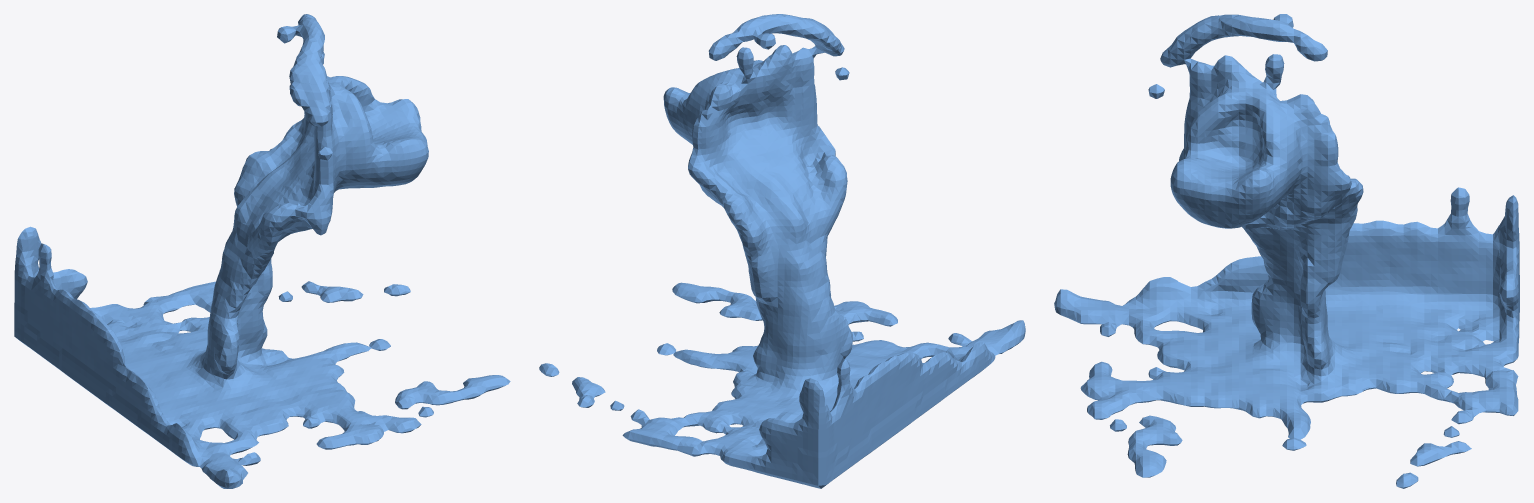
File: water_0043.glb
The picture shows the model from 3 angles, left to right: view 1: azimuth 30°, elevation 25°; view 2: azimuth 150°, elevation 25°; view 3: azimuth 270°, elevation 25°; orthographic projection. The views are drawn at different scales.
Visible parts, largest first — view 1: Water_0043; view 2: Water_0043; view 3: Water_0043.
Boxes of the visible parts, box(x1,y1,x2,y2) form: Water_0043: box(14, 14, 510, 488); Water_0043: box(539, 14, 1025, 488); Water_0043: box(1054, 14, 1519, 488).
Bounding box in the file's own units: 3.69 × 3.64 × 3.96.
